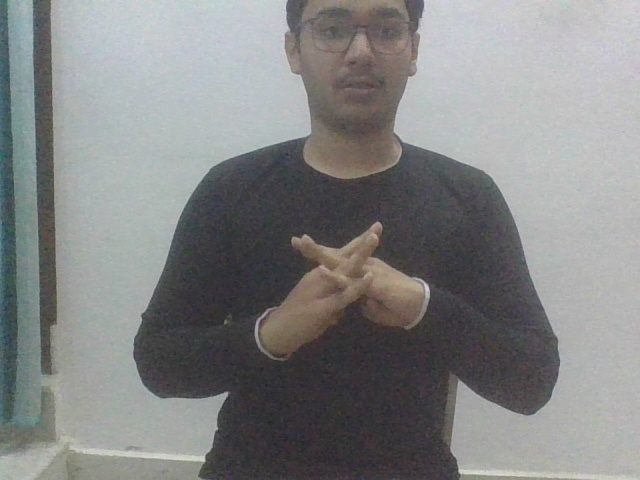W: (258, 220, 434, 356)
